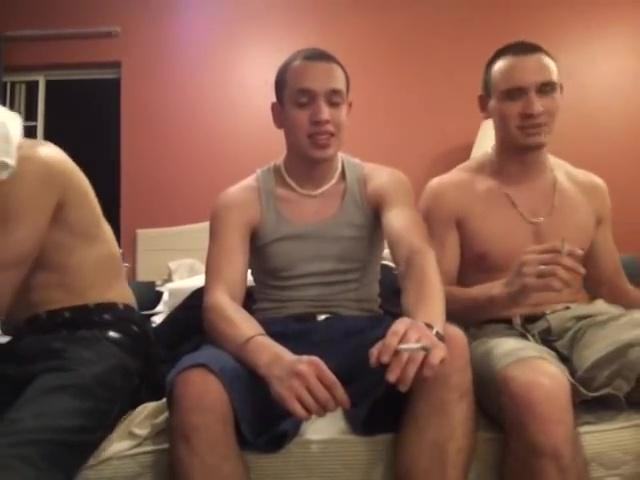cigarette: (391, 336, 432, 355)
